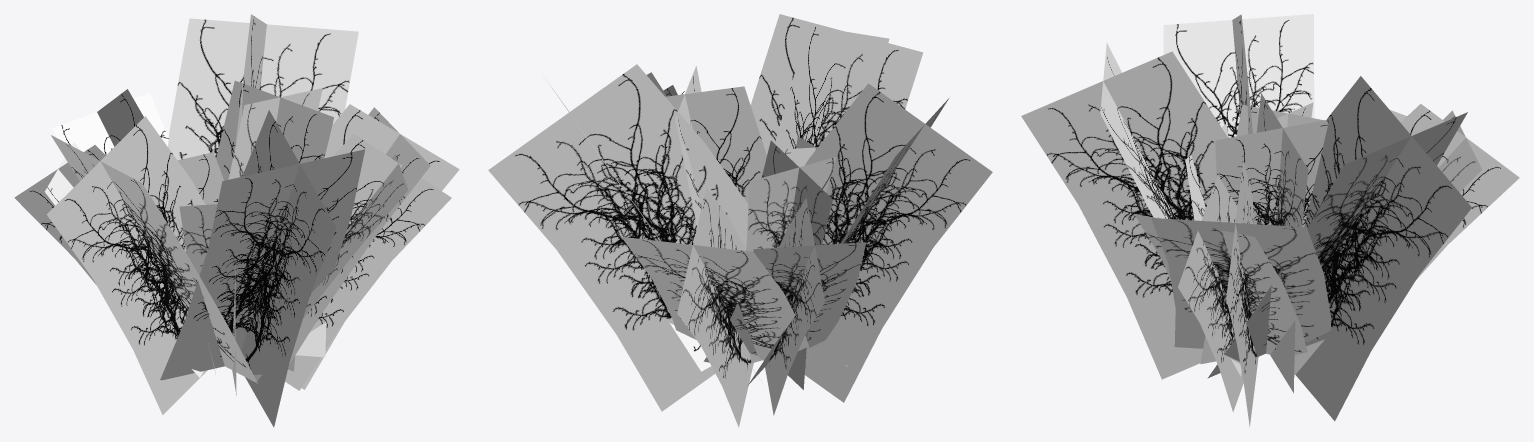
File: Branch_2PNG_Dense_01_Round.fbx
3 renders of one model, left to right at view 1: azimuth 30°, elevation 25°; view 2: azimuth 150°, elevation 25°; view 3: azimuth 270°, elevation 25°, orthographic. The views are drawn at different scales.
Parts seen in each view (by area): view 1: Branch_2PNG_Dense_01_Round.001; view 2: Branch_2PNG_Dense_01_Round.001; view 3: Branch_2PNG_Dense_01_Round.001.
Part boxes in pixels (box(x1,y1,x2,y2)): Branch_2PNG_Dense_01_Round.001: box(14, 14, 459, 427); Branch_2PNG_Dense_01_Round.001: box(488, 14, 992, 427); Branch_2PNG_Dense_01_Round.001: box(1021, 14, 1519, 427).
Bounding box in the file's own units: 199 × 154 × 198.
